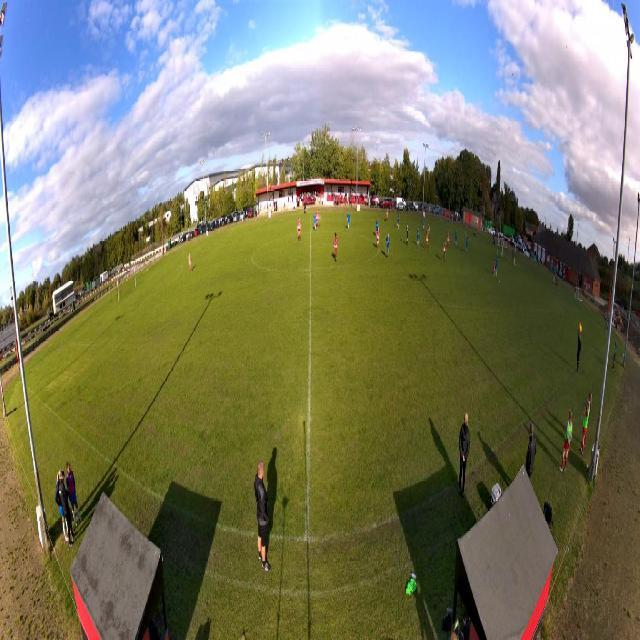ball: (498, 279, 500, 283)
player: (332, 232, 338, 263), (297, 216, 302, 242), (493, 257, 499, 278), (405, 223, 410, 247), (386, 232, 390, 259), (376, 225, 380, 250), (443, 239, 447, 263), (465, 230, 469, 254), (425, 229, 429, 251), (417, 226, 421, 246), (492, 257, 496, 277), (188, 253, 192, 273), (315, 209, 319, 228), (313, 212, 317, 231), (347, 211, 351, 230), (375, 217, 379, 236), (446, 231, 450, 250), (396, 212, 400, 229), (455, 227, 458, 248), (428, 221, 431, 239), (501, 244, 504, 262), (422, 214, 425, 231), (386, 206, 389, 222)
